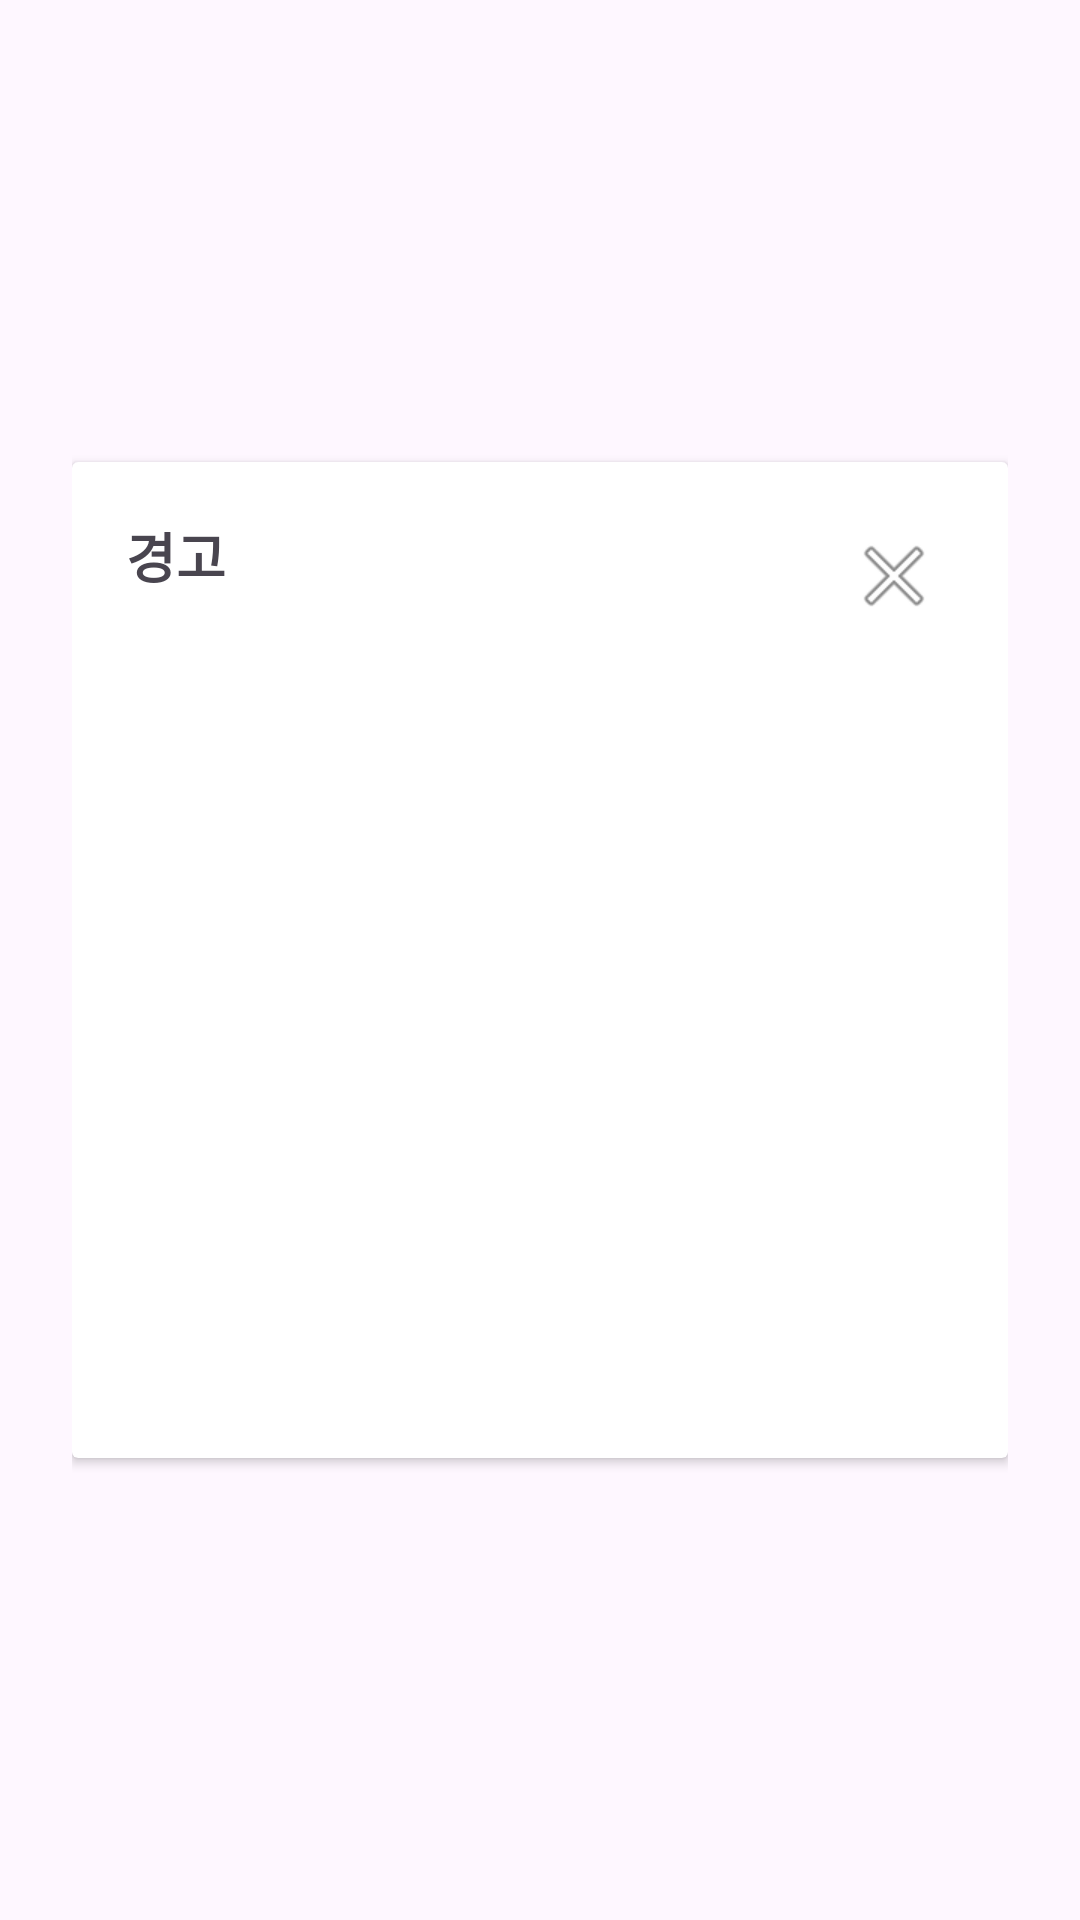

Named icons in this screenshot (1080*1920) and their centers, [x,y]:
close: [894,576]
